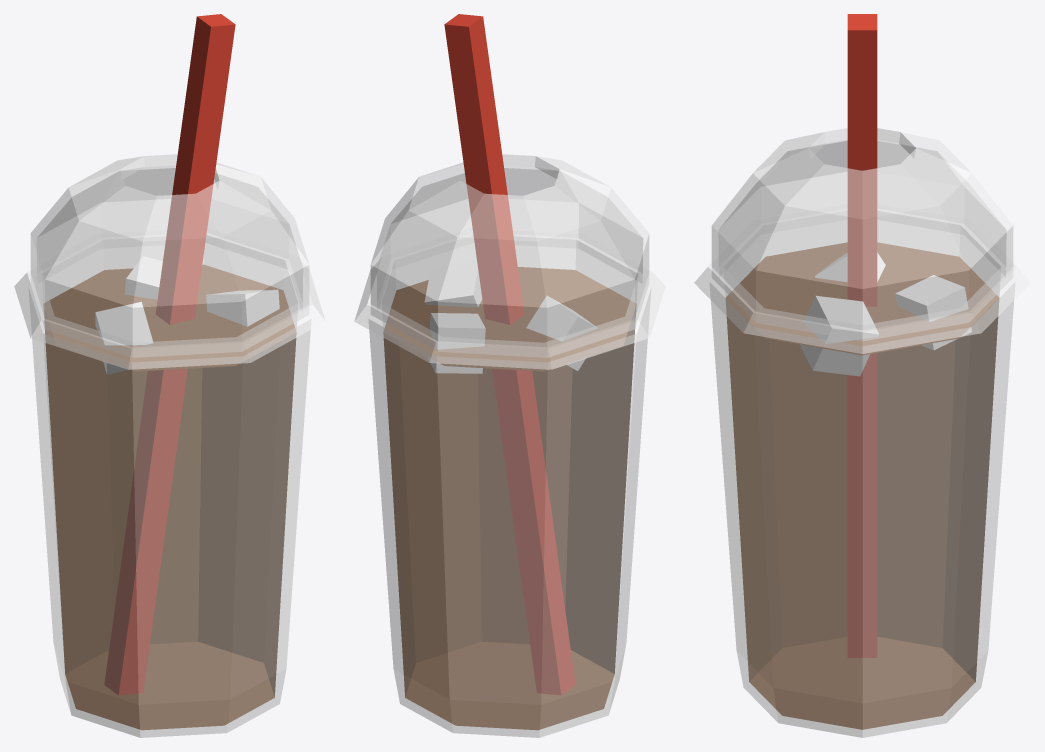
File: drinks-cup-plastic-ice-coffee.glb
3 views of the same model, side by side, from view 1: azimuth 30°, elevation 25°; view 2: azimuth 150°, elevation 25°; view 3: azimuth 270°, elevation 25° (orthographic). The views are drawn at different scales.
Visible parts, largest first — view 1: cup-plastic-ice-coffee; view 2: cup-plastic-ice-coffee; view 3: cup-plastic-ice-coffee.
Boxes of the visible parts, bbox=[...] form: cup-plastic-ice-coffee: bbox=[14, 14, 325, 737]; cup-plastic-ice-coffee: bbox=[354, 14, 665, 737]; cup-plastic-ice-coffee: bbox=[694, 14, 1030, 737].
Size of the model in its own units: 0.1094 by 0.2475 by 0.1094.
